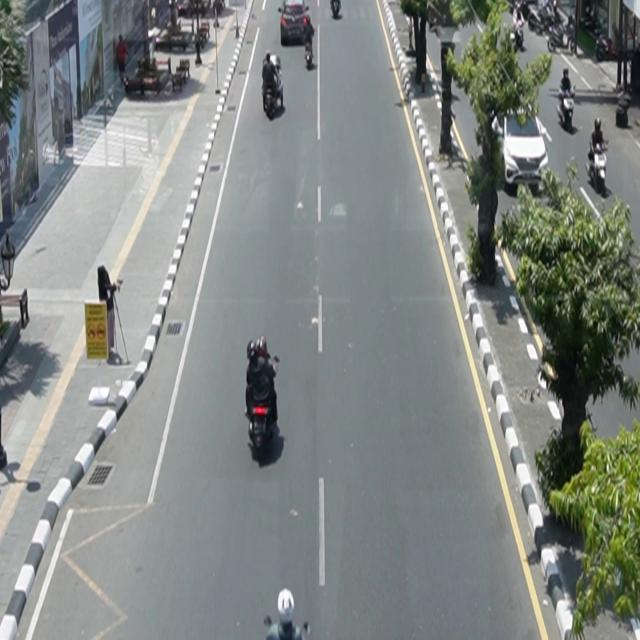car: (492, 104, 550, 196)
